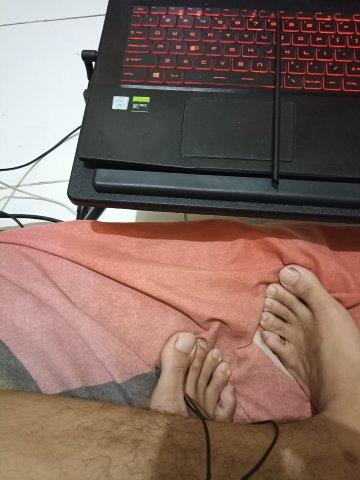sedotan: (272, 44, 280, 184)
